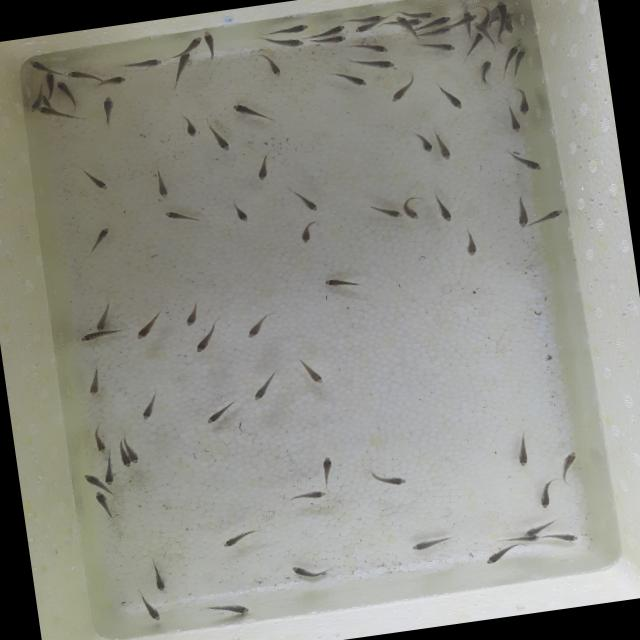fingerling: (364, 461, 414, 493), (292, 350, 330, 392), (200, 115, 237, 158), (504, 141, 544, 178), (215, 524, 266, 553), (245, 368, 283, 406), (432, 76, 468, 115), (229, 98, 275, 128), (506, 429, 536, 474), (478, 542, 526, 570), (130, 308, 167, 344), (285, 182, 322, 218), (77, 162, 114, 198), (406, 531, 457, 557), (530, 474, 561, 516), (204, 596, 254, 622), (134, 388, 168, 426), (240, 309, 278, 343), (552, 449, 584, 488), (318, 270, 366, 296), (364, 196, 404, 226), (200, 399, 240, 428), (290, 558, 332, 585), (175, 298, 208, 332), (189, 325, 223, 358), (82, 225, 116, 258), (351, 54, 402, 76), (250, 151, 282, 186), (429, 186, 457, 226), (80, 362, 110, 399), (161, 205, 205, 230), (148, 164, 176, 203), (386, 73, 420, 105), (224, 192, 254, 228), (258, 48, 288, 84), (292, 216, 322, 251), (134, 592, 164, 626), (36, 102, 75, 128), (413, 36, 459, 58), (313, 453, 341, 489), (90, 297, 118, 333), (509, 191, 533, 232), (283, 486, 331, 506), (401, 192, 430, 224), (123, 54, 165, 76), (331, 68, 369, 92), (530, 204, 568, 228), (97, 94, 122, 130), (432, 127, 456, 164), (263, 21, 314, 38), (146, 558, 170, 594), (351, 38, 393, 58), (520, 518, 558, 540), (513, 82, 535, 119), (77, 329, 123, 346), (412, 127, 436, 159), (461, 225, 482, 261), (89, 420, 111, 454), (89, 490, 112, 521), (543, 529, 582, 547), (67, 66, 102, 86), (180, 111, 202, 142), (504, 102, 524, 136), (310, 34, 352, 50), (100, 451, 118, 488), (267, 35, 306, 52), (473, 58, 496, 86), (346, 13, 386, 27), (55, 78, 76, 104), (202, 29, 220, 58), (312, 24, 348, 38), (80, 470, 102, 491), (105, 74, 132, 90), (26, 57, 50, 74), (42, 71, 58, 96), (184, 36, 204, 52), (431, 15, 453, 28), (351, 24, 374, 36), (433, 24, 454, 36), (119, 454, 133, 470), (393, 14, 408, 28), (472, 20, 487, 34), (129, 450, 142, 466), (494, 0, 507, 14), (462, 14, 478, 24), (518, 48, 530, 61), (421, 10, 436, 20), (408, 18, 424, 27), (504, 23, 516, 35), (506, 45, 520, 54)
